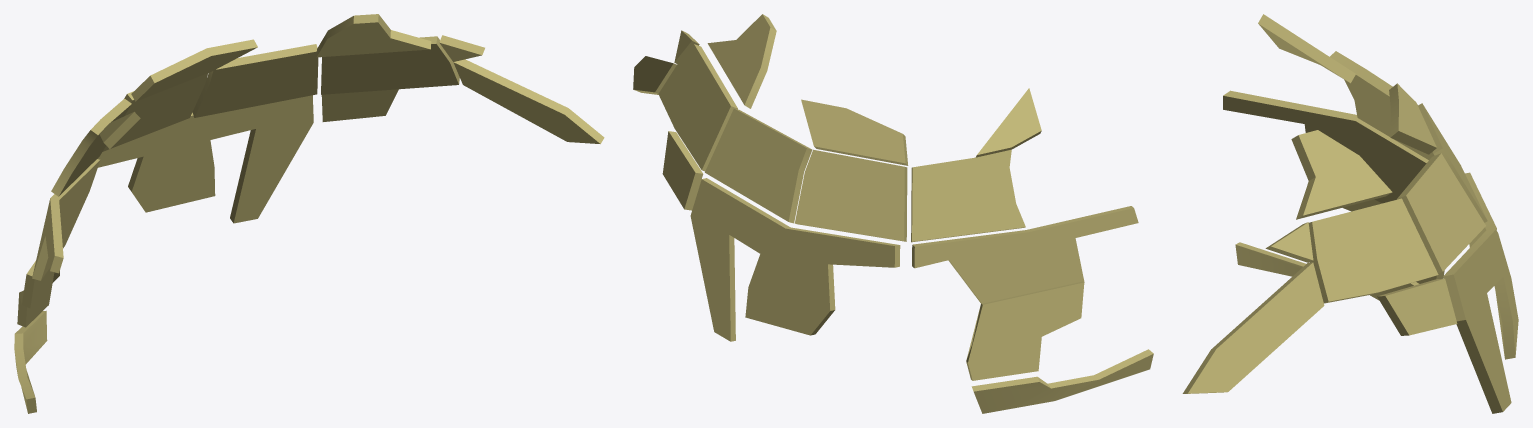
Rendered from Cont5.fbx.
3 renders of one model, left to right at view 1: azimuth 30°, elevation 25°; view 2: azimuth 150°, elevation 25°; view 3: azimuth 270°, elevation 25°, orthographic. The views are drawn at different scales.
Visible parts, largest first — view 1: C5_Country10_GEO, C5_Country5_GEO, C5_Country6_GEO, C5_Country8_GEO, C5_Country7_GEO, C5_Country11_GEO, C5_Country3_GEO, C5_Country4_GEO, C5_Country9_GEO, C5_Country2_GEO, C5_Country13_GEO, C5_Country12_GEO (+1 smaller); view 2: C5_Country10_GEO, C5_Country11_GEO, C5_Country2_GEO, C5_Country3_GEO, C5_Country12_GEO, C5_Country5_GEO, C5_Country6_GEO, C5_Country4_GEO, C5_Country13_GEO, C5_Country7_GEO, C5_Country9_GEO, C5_Country1_GEO (+1 smaller); view 3: C5_Country6_GEO, C5_Country10_GEO, C5_Country8_GEO, C5_Country11_GEO, C5_Country5_GEO, C5_Country7_GEO, C5_Country9_GEO, C5_Country2_GEO, C5_Country4_GEO, C5_Country1_GEO, C5_Country13_GEO, C5_Country3_GEO (+1 smaller).
Boxes of the visible parts, x1,y1,x2,y2 form: C5_Country10_GEO: (97,95,313,223); C5_Country5_GEO: (192,44,318,117); C5_Country6_GEO: (321,36,459,94); C5_Country8_GEO: (439,35,604,143); C5_Country7_GEO: (316,14,431,57); C5_Country11_GEO: (32,159,100,280); C5_Country3_GEO: (102,73,207,151); C5_Country4_GEO: (131,39,257,101); C5_Country9_GEO: (321,89,398,121); C5_Country2_GEO: (51,98,131,196); C5_Country13_GEO: (14,310,47,413); C5_Country12_GEO: (17,261,59,327); C5_Country10_GEO: (690,178,900,341); C5_Country11_GEO: (912,206,1138,303); C5_Country2_GEO: (911,149,1025,242); C5_Country3_GEO: (794,149,907,241); C5_Country12_GEO: (966,281,1084,380); C5_Country5_GEO: (705,108,812,223); C5_Country6_GEO: (658,44,737,171); C5_Country4_GEO: (801,99,908,165); C5_Country13_GEO: (971,349,1153,413); C5_Country7_GEO: (707,14,776,108); C5_Country9_GEO: (662,131,703,210); C5_Country1_GEO: (975,88,1041,157); C5_Country6_GEO: (1308,198,1438,303); C5_Country10_GEO: (1443,172,1518,413); C5_Country8_GEO: (1182,222,1324,393); C5_Country11_GEO: (1223,90,1428,203); C5_Country5_GEO: (1397,153,1485,273); C5_Country7_GEO: (1291,130,1392,219); C5_Country9_GEO: (1377,278,1457,335); C5_Country2_GEO: (1330,51,1434,159); C5_Country4_GEO: (1389,83,1436,154); C5_Country1_GEO: (1258,14,1355,83); C5_Country13_GEO: (1235,242,1418,300); C5_Country3_GEO: (1418,103,1487,222).
Size of the model in its own units: 1133 by 584 by 505.
